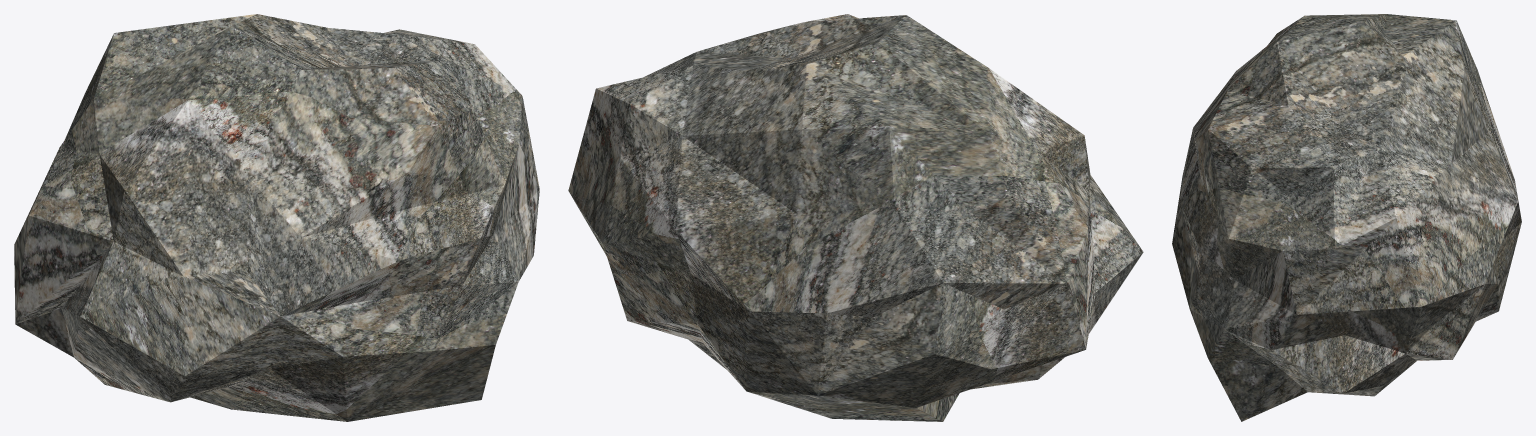
Rendered from Rock.obj.
The picture shows the model from 3 angles, left to right: view 1: azimuth 30°, elevation 25°; view 2: azimuth 150°, elevation 25°; view 3: azimuth 270°, elevation 25°; orthographic projection. The views are drawn at different scales.
Visible parts, largest first — view 1: Cube_Cube.001; view 2: Cube_Cube.001; view 3: Cube_Cube.001.
Part boxes in pixels (x1,y1,x2,y2): Cube_Cube.001: (14,14,539,421); Cube_Cube.001: (568,14,1143,421); Cube_Cube.001: (1172,14,1521,421).
Bounding box in the file's own units: 2.29 × 1.65 × 1.62.
1 material, 1 textured.
